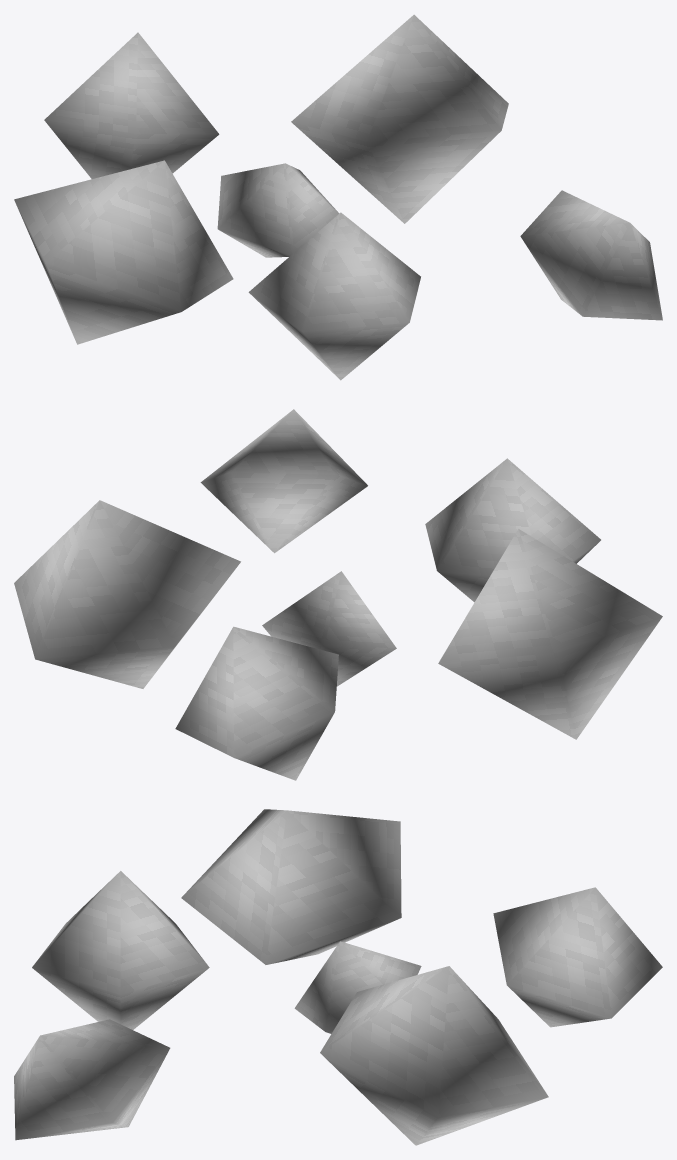
Rendered from berries.obj.
3 renders of one model, top to bottom at view 1: azimuth 30°, elevation 25°; view 2: azimuth 150°, elevation 25°; view 3: azimuth 270°, elevation 25°, orthographic. The views are drawn at different scales.
Parts seen in each view (by area): view 1: Duplicate05, Duplicate06, Sphere07, Duplicate04, Duplicate07, Duplicate08; view 2: Duplicate06, Duplicate05, Duplicate04, Duplicate07, Sphere07, Duplicate08; view 3: Duplicate05, Duplicate06, Duplicate04, Sphere07, Duplicate07, Duplicate08.
Boxes of the visible parts, box(x1,y1,x2,y2) form: Duplicate05: box(14, 160, 233, 344); Duplicate06: box(291, 14, 508, 223); Sphere07: box(248, 212, 420, 380); Duplicate04: box(44, 32, 219, 178); Duplicate07: box(520, 190, 662, 320); Duplicate08: box(217, 163, 338, 257); Duplicate06: box(14, 500, 240, 688); Duplicate05: box(438, 529, 662, 739); Duplicate04: box(175, 626, 338, 780); Duplicate07: box(200, 409, 367, 553); Sphere07: box(425, 458, 600, 602); Duplicate08: box(262, 571, 396, 686); Duplicate05: box(181, 809, 401, 964); Duplicate06: box(320, 966, 548, 1145); Duplicate04: box(493, 887, 662, 1027); Sphere07: box(32, 871, 209, 1029); Duplicate07: box(14, 1019, 170, 1140); Duplicate08: box(294, 941, 421, 1033).
Size of the model in its own units: 30.75 by 10.23 by 31.22.
